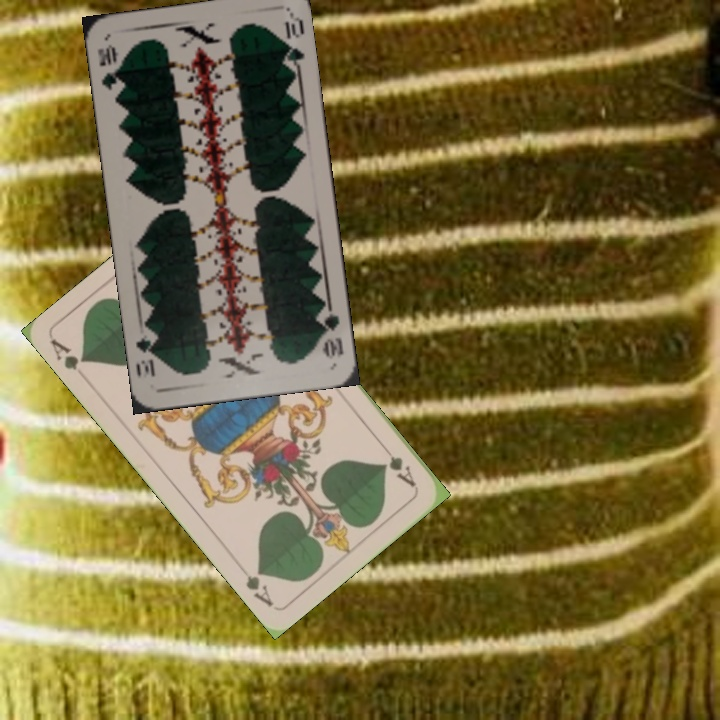G10: (315, 302, 346, 362), (93, 40, 124, 93)
GA: (377, 440, 419, 490), (47, 335, 89, 373)
